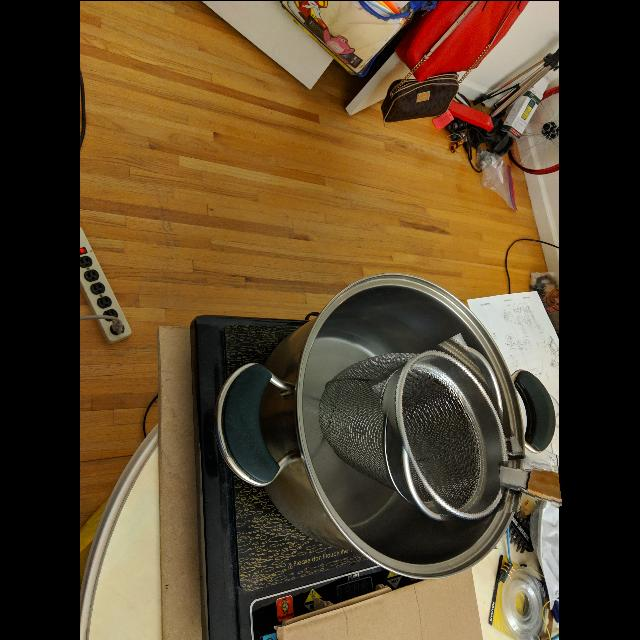Handle: (499, 456, 561, 510)
Strainer: (386, 339, 526, 529)
